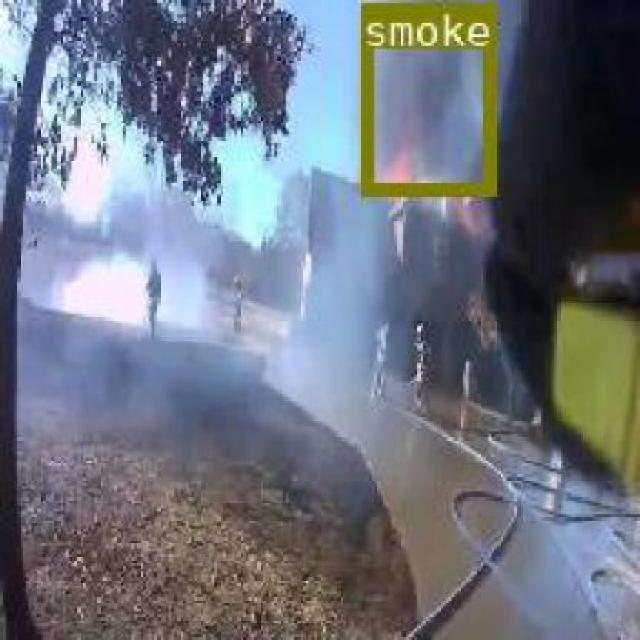Smoke: (358, 1, 493, 194)
